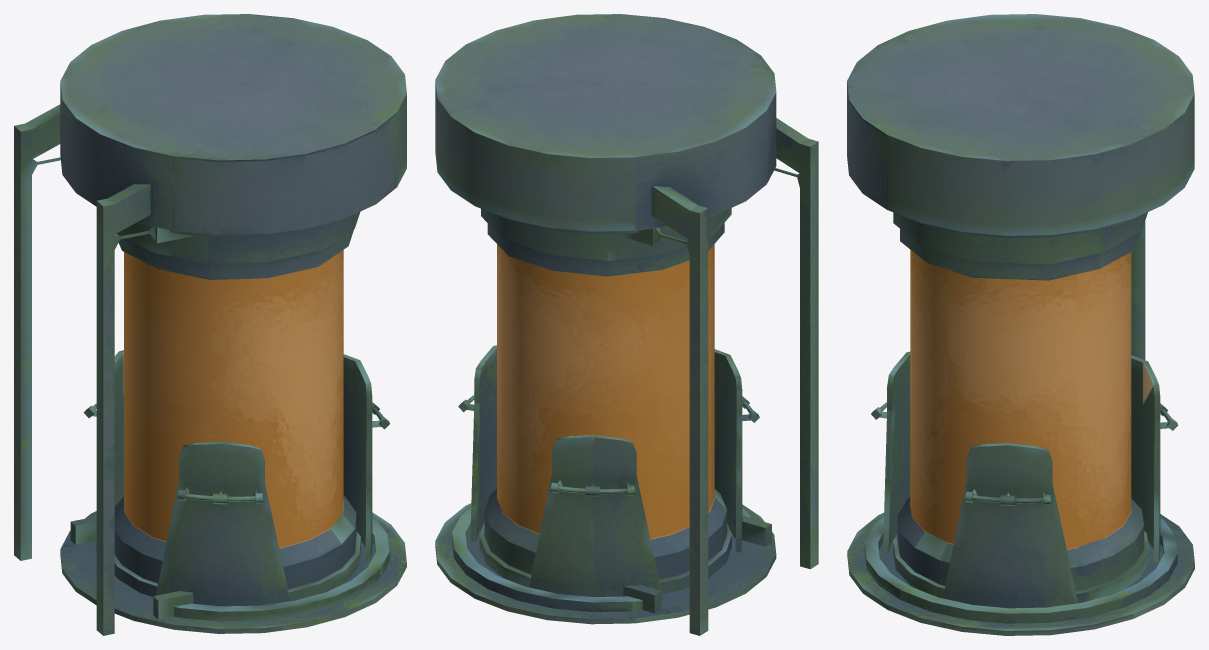
File: stuff1.fbx
The picture shows the model from 3 angles, left to right: view 1: azimuth 30°, elevation 25°; view 2: azimuth 150°, elevation 25°; view 3: azimuth 270°, elevation 25°; orthographic projection.
Parts seen in each view (by area): view 1: props_med_capsule_base_005, props_med_capsule_01_light016; view 2: props_med_capsule_base_005, props_med_capsule_01_light016; view 3: props_med_capsule_base_005, props_med_capsule_01_light016.
Boxes of the visible parts, x1,y1,x2,y2 form: props_med_capsule_base_005: (14,14,406,635); props_med_capsule_01_light016: (83,350,389,606); props_med_capsule_base_005: (435,14,818,635); props_med_capsule_01_light016: (458,345,759,599); props_med_capsule_base_005: (847,14,1194,635); props_med_capsule_01_light016: (871,351,1178,608).
Bounding box in the file's own units: 262 × 368 × 243.
